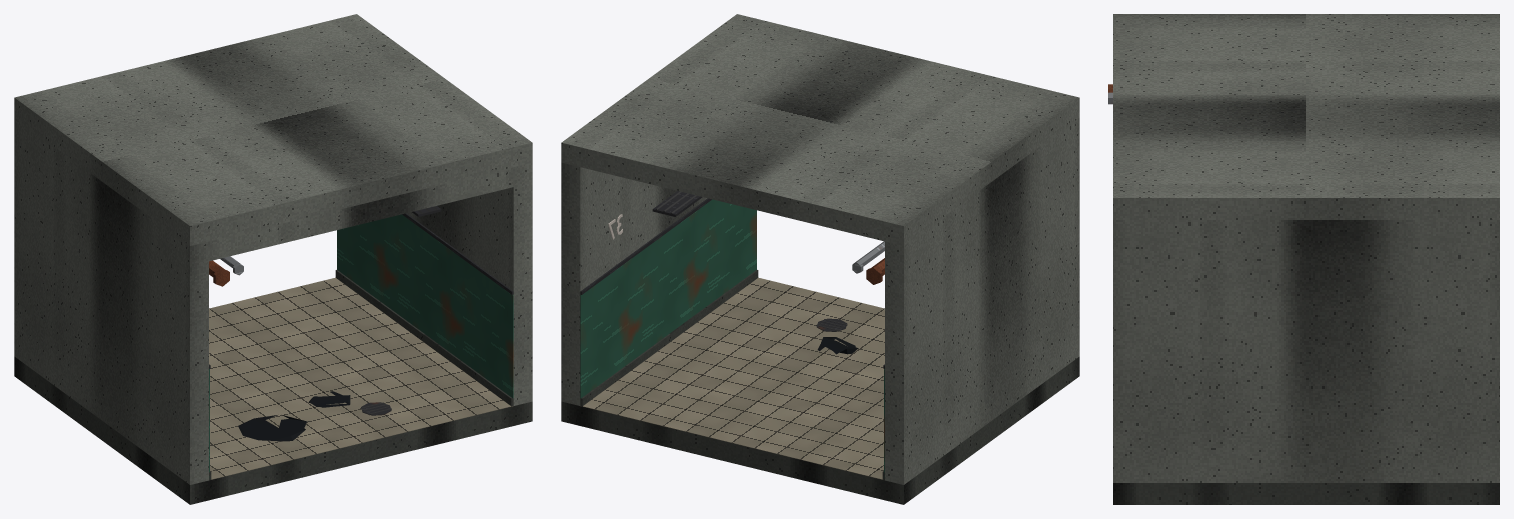
File: corridor_straight.glb
3 views of the same model, side by side, from view 1: azimuth 30°, elevation 25°; view 2: azimuth 150°, elevation 25°; view 3: azimuth 270°, elevation 25° (orthographic). The views are drawn at different scales.
Parts seen in each view (by area): view 1: corridor_straight; view 2: corridor_straight; view 3: corridor_straight.
Boxes of the visible parts, x1=… form: corridor_straight: x1=14, y1=14, x2=532, y2=504; corridor_straight: x1=561, y1=14, x2=1079, y2=504; corridor_straight: x1=1108, y1=14, x2=1499, y2=504.
Size of what is drawn, in the model's own units: 4.5 by 3.5 by 4.05.
12 materials, 10 textured.
